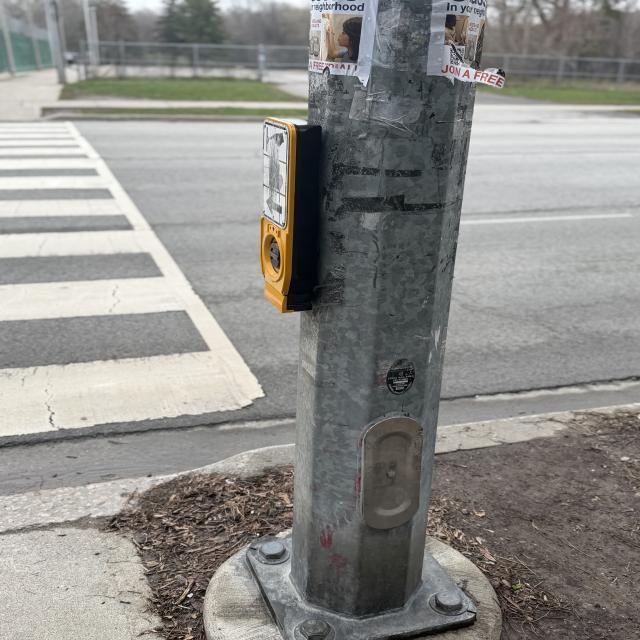Electrical Pole: (242, 92, 484, 639)
